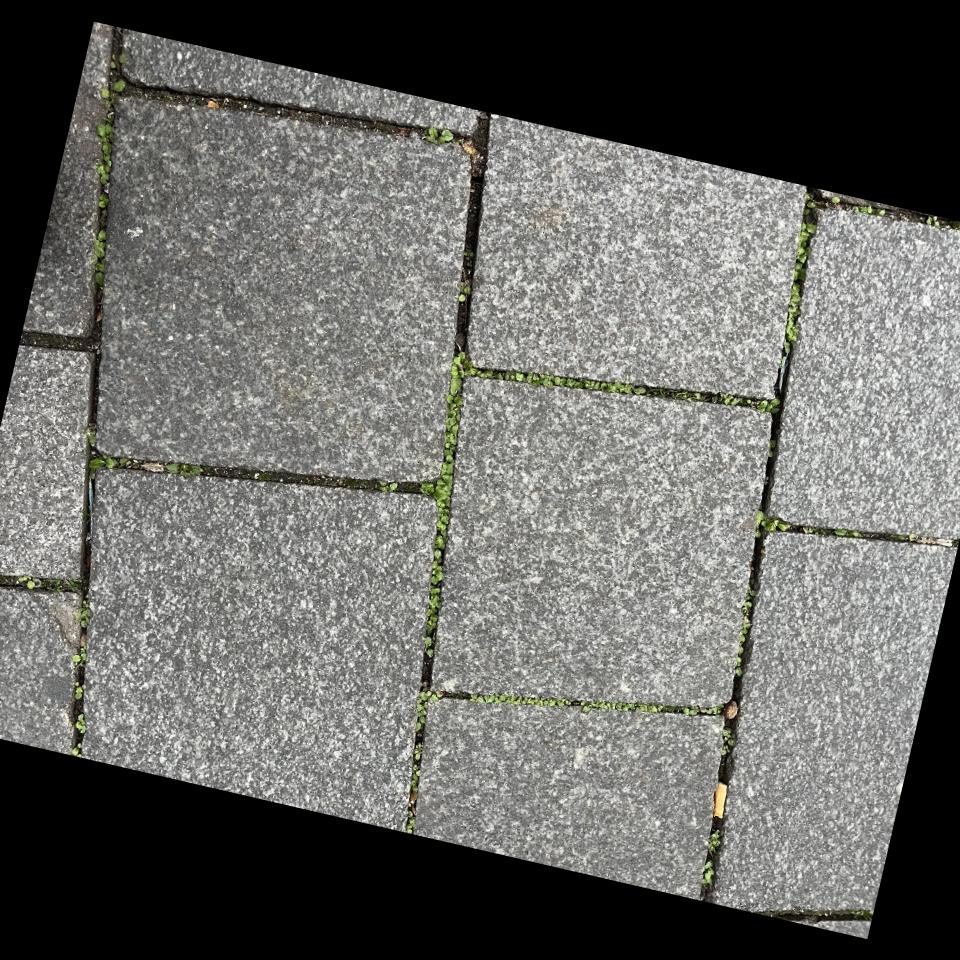weed: (465, 363, 780, 414), (419, 353, 466, 667), (432, 688, 725, 716), (784, 221, 815, 353), (96, 88, 116, 185), (94, 230, 105, 286), (97, 188, 109, 221), (803, 196, 814, 217), (113, 79, 125, 88)
